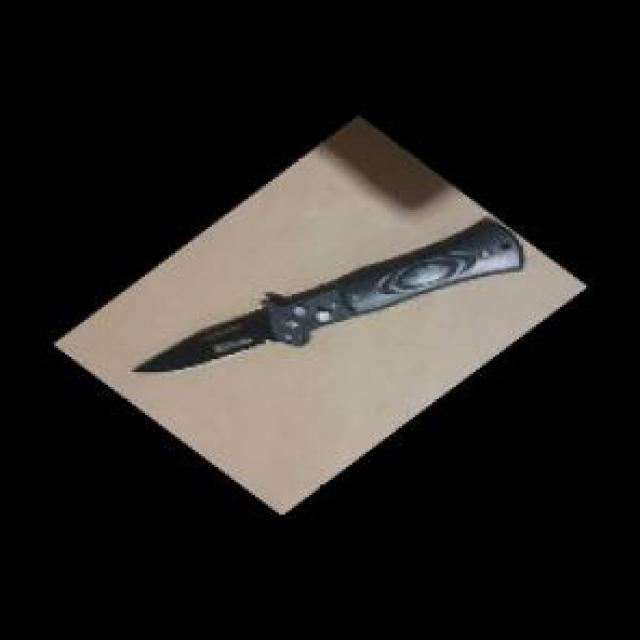knife: (130, 215, 528, 378)
